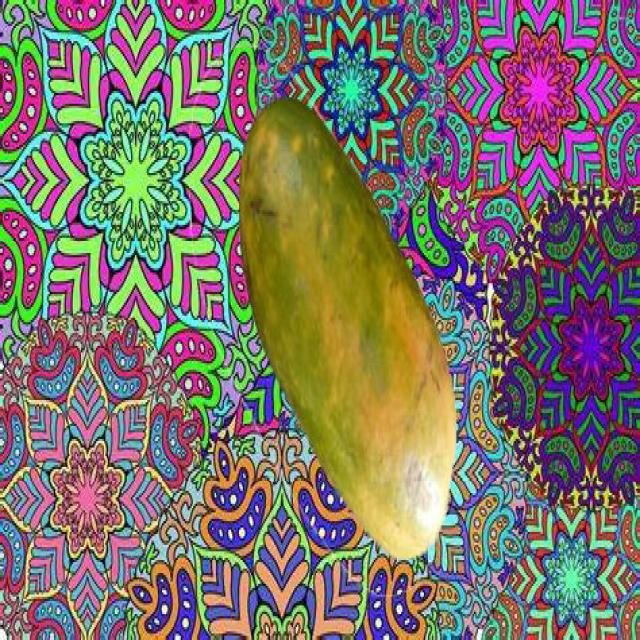Pepaya rippen: (224, 99, 473, 582)
